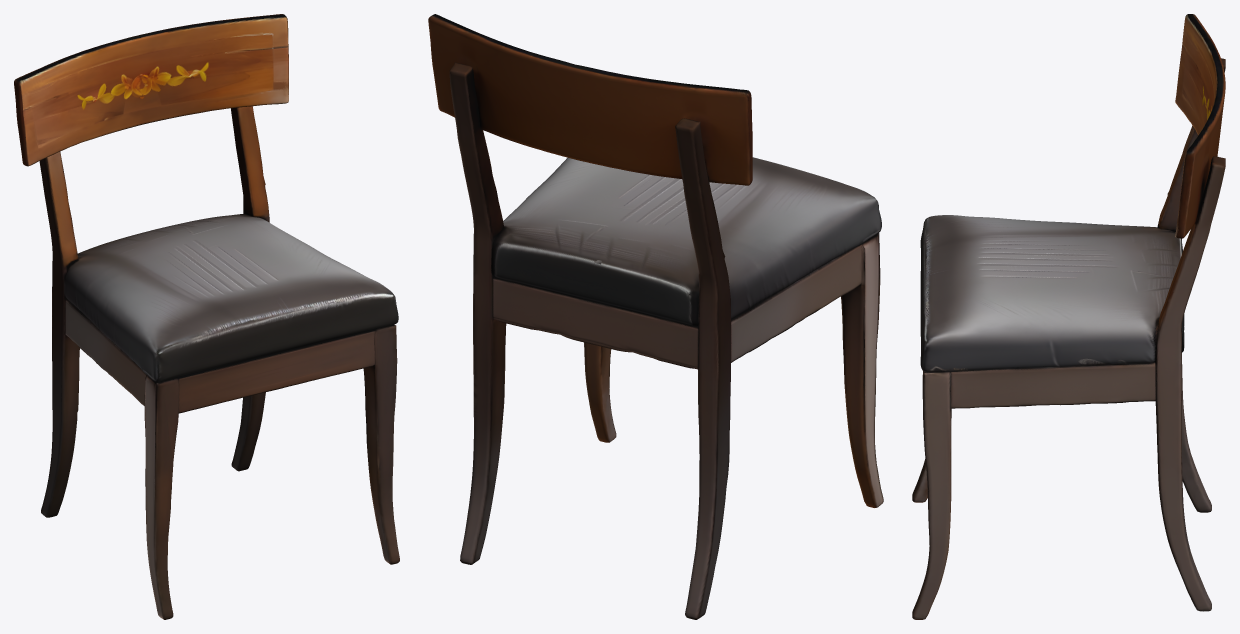
3 views of the same model, side by side, from view 1: azimuth 30°, elevation 25°; view 2: azimuth 150°, elevation 25°; view 3: azimuth 270°, elevation 25° (orthographic). The views are drawn at different scales.
Visible parts, largest first — view 1: root.0, root.2, root.1, root.3, root.6, root.5, root.4; view 2: root.0, root.2, root.1, root.3, root.4, root.6, root.5; view 3: root.0, root.4, root.1, root.2, root.5, root.3.
Part boxes in pixels (x1=…): root.0: x1=65, y1=214, x2=398, y2=381; root.2: x1=14, y1=14, x2=288, y2=166; root.1: x1=65, y1=299, x2=395, y2=413; root.3: x1=39, y1=151, x2=79, y2=517; root.6: x1=144, y1=375, x2=179, y2=619; root.5: x1=363, y1=324, x2=399, y2=564; root.4: x1=231, y1=106, x2=269, y2=471; root.0: x1=491, y1=157, x2=881, y2=326; root.2: x1=428, y1=14, x2=752, y2=185; root.1: x1=492, y1=233, x2=879, y2=369; root.3: x1=675, y1=118, x2=731, y2=619; root.4: x1=449, y1=62, x2=506, y2=564; root.6: x1=841, y1=233, x2=883, y2=507; root.5: x1=584, y1=342, x2=616, y2=442; root.0: x1=920, y1=215, x2=1184, y2=372; root.4: x1=1155, y1=156, x2=1225, y2=611; root.1: x1=924, y1=362, x2=1155, y2=408; root.2: x1=1175, y1=14, x2=1225, y2=238; root.5: x1=912, y1=371, x2=951, y2=619; root.3: x1=1157, y1=58, x2=1225, y2=512.
Bounding box in the file's own units: 0.4922 × 0.78 × 0.4642.
Materials: 7 (7 with a texture image).
